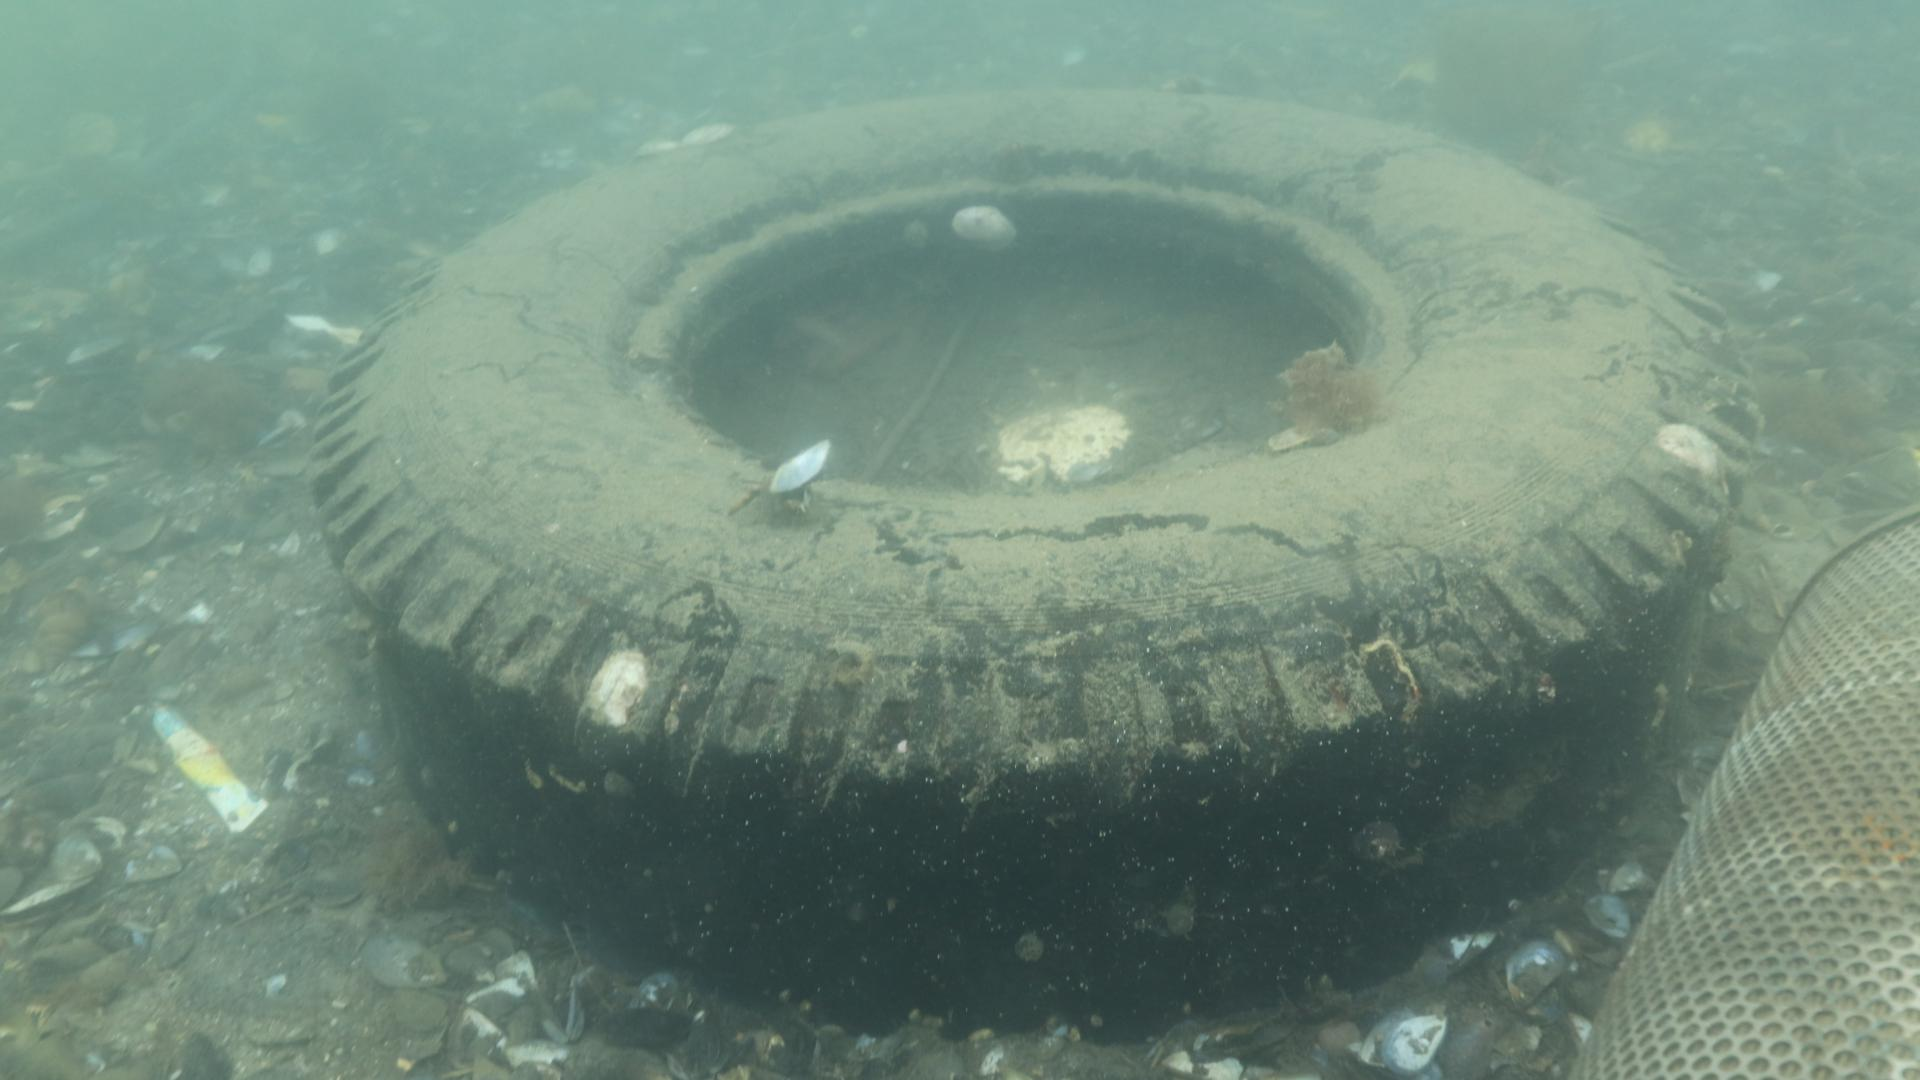tire: (313, 88, 1758, 1036)
